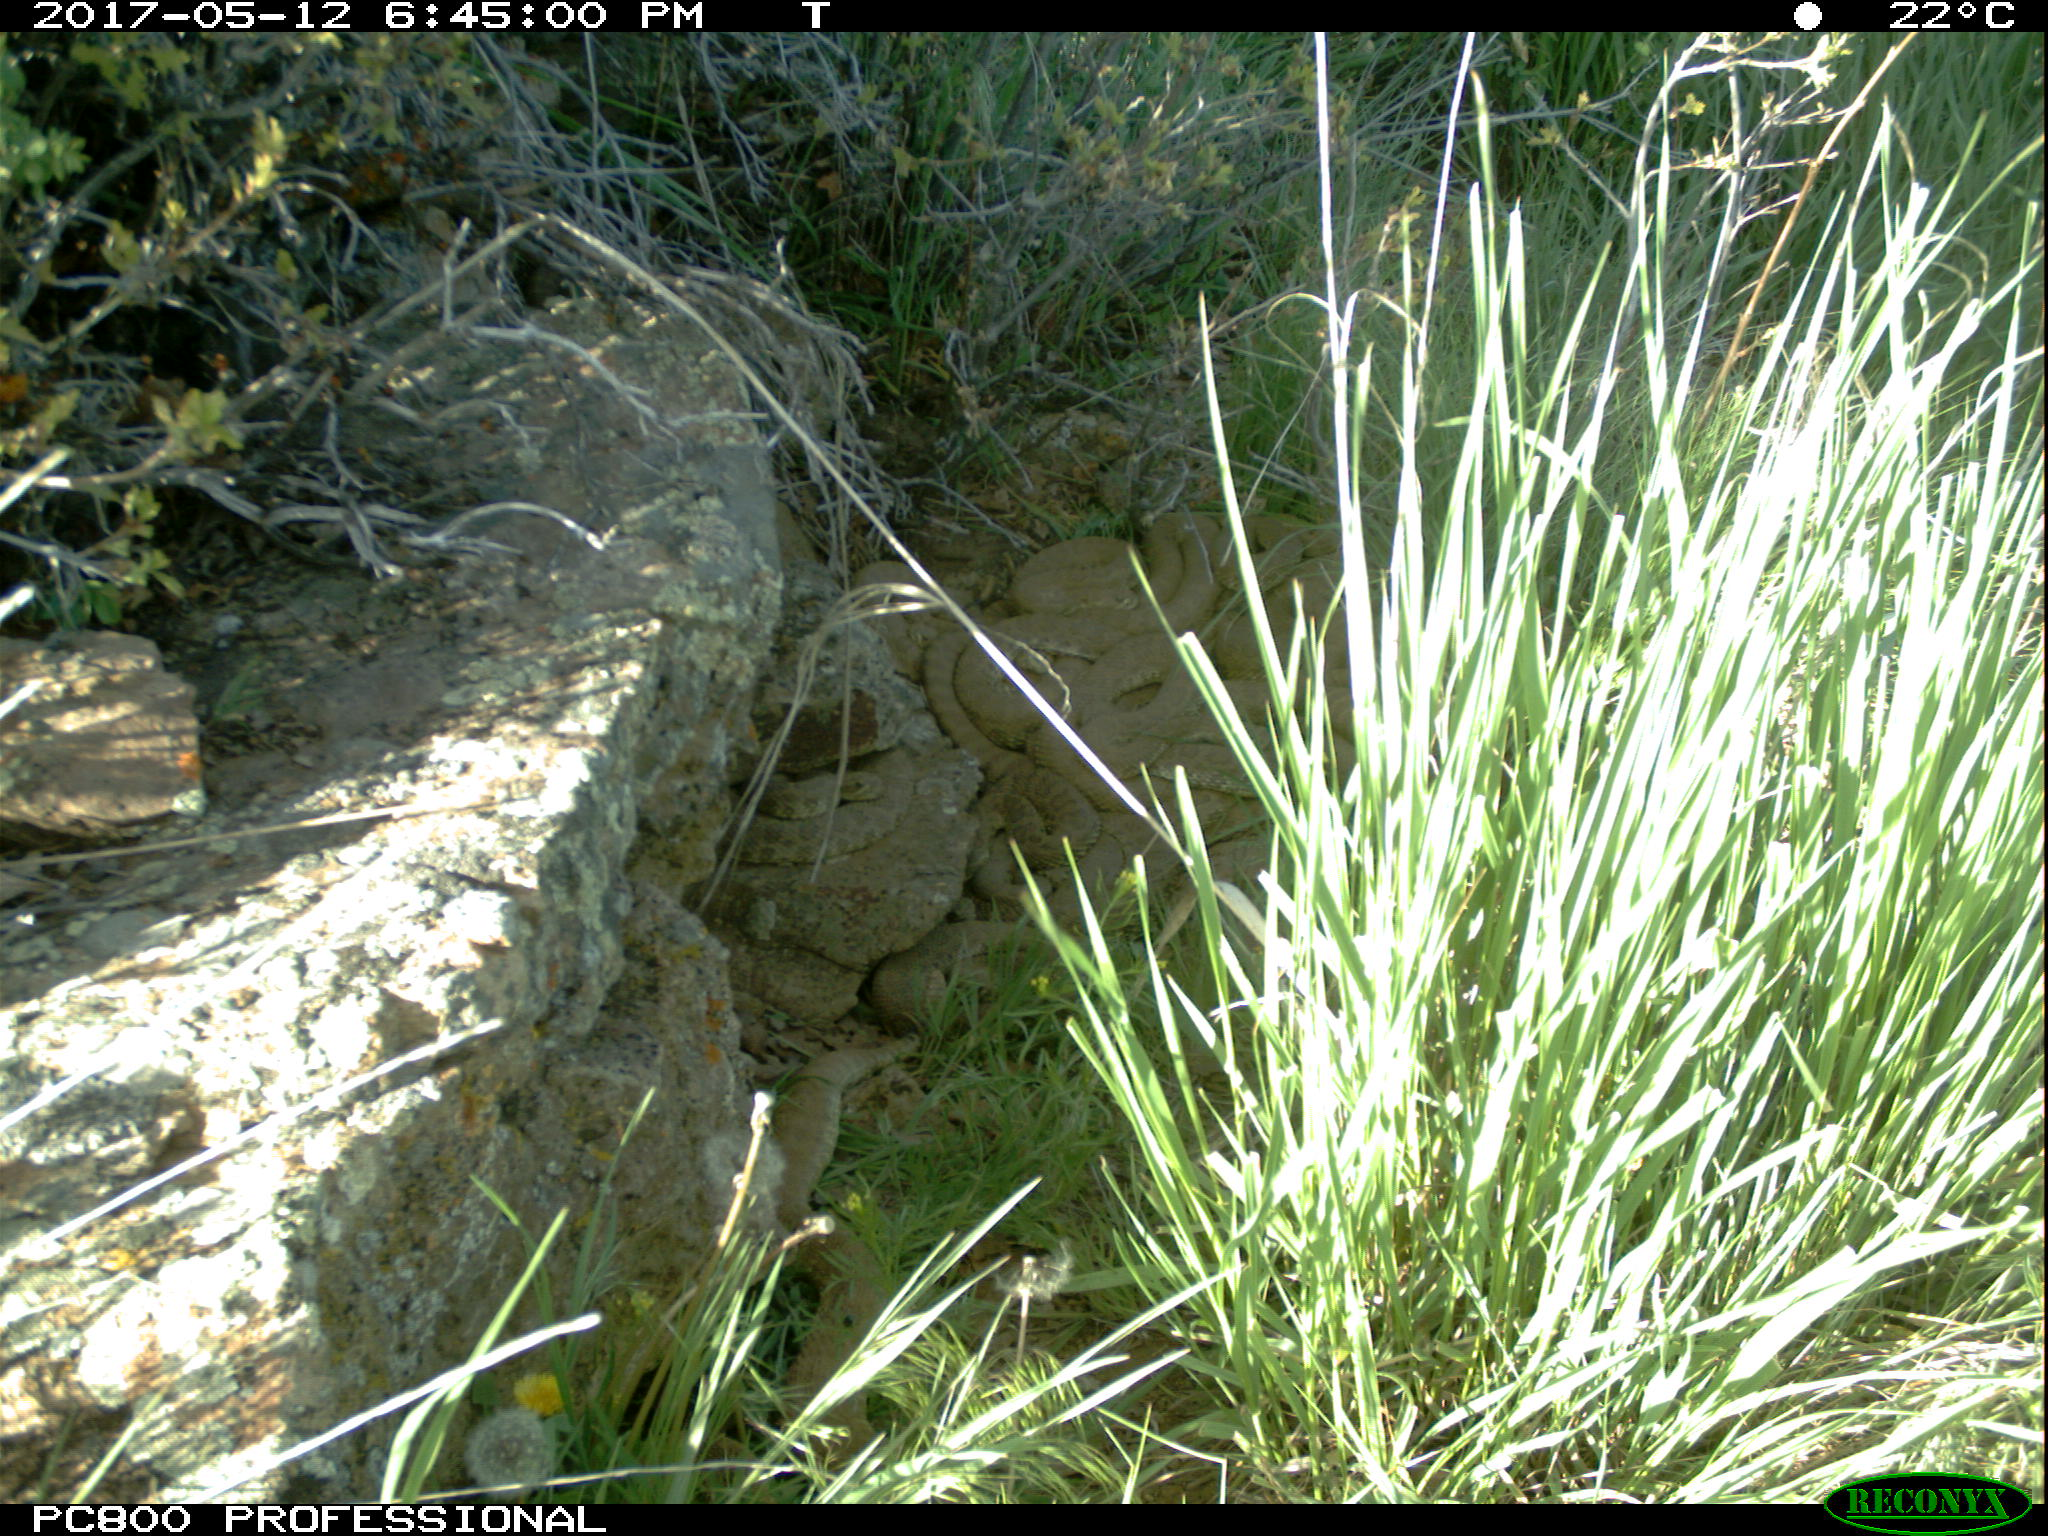snake: (761, 1026, 911, 1470), (871, 915, 1148, 1031), (922, 628, 1084, 783), (1076, 623, 1198, 787), (1143, 508, 1298, 615), (739, 771, 913, 857), (971, 783, 1101, 895), (1019, 529, 1168, 623)
